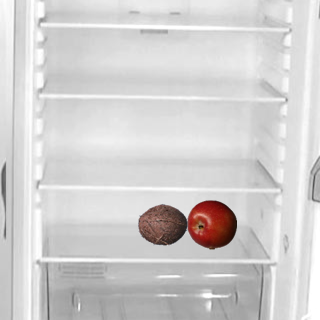Apple Braeburn: (186, 199, 236, 249)
Cocos: (137, 199, 187, 249)
